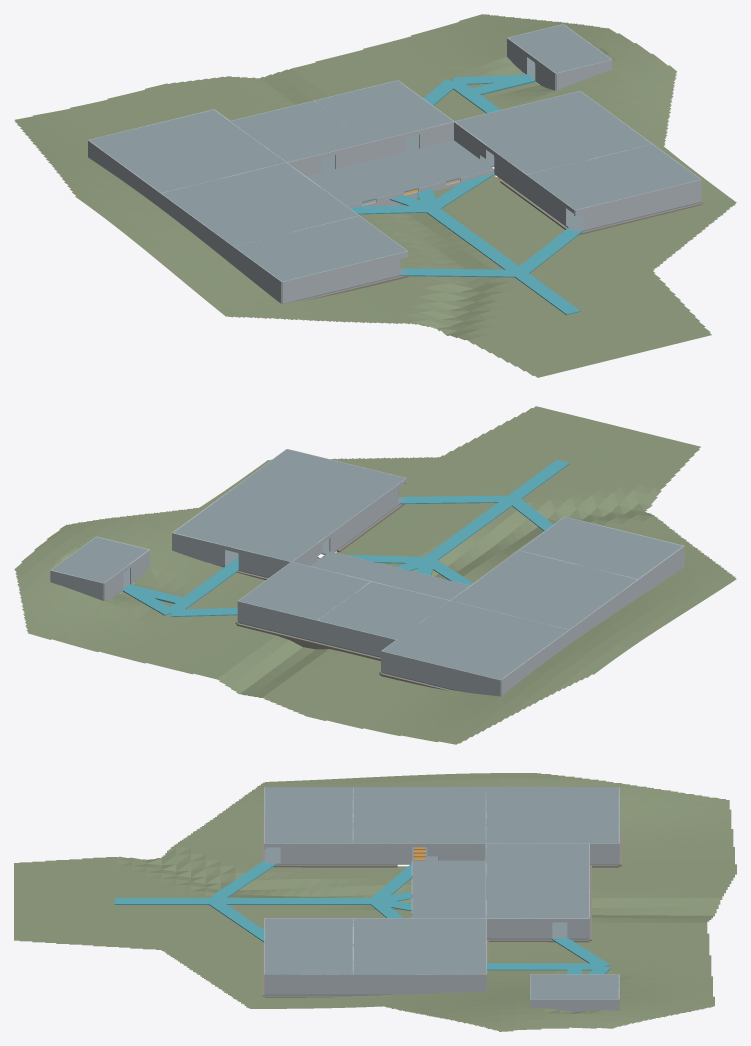
Rendered from finished-ends.glb.
3 renders of one model, top to bottom at view 1: azimuth 30°, elevation 25°; view 2: azimuth 150°, elevation 25°; view 3: azimuth 270°, elevation 25°, orthographic. The views are drawn at different scales.
Parts seen in each view (by area): view 1: Saved editor circulation terrain WLD-08, Ceiling cap lab, Ceiling cap dorm, Ceiling cap generator, Ceiling cap mess, Ceiling cap store, Ceiling cap radio, Ceiling cap records, Flat route shell Wall mess S, Flat route shell Wall store S, Ceiling cap shelter, Restored ceiling-cap tunnel 6 region1 (+19 smaller); view 2: Saved editor circulation terrain WLD-08, Ceiling cap generator, Ceiling cap dorm, Ceiling cap lab, Ceiling cap mess, Ceiling cap store, Ceiling cap records, Ceiling cap radio, Wall generator N, Ceiling cap shelter, Wall records N, Restored ceiling-cap tunnel 6 region1 (+13 smaller); view 3: Saved editor circulation terrain WLD-08, Ceiling cap generator, Ceiling cap lab, Ceiling cap dorm, Ceiling cap store, Ceiling cap mess, Ceiling cap radio, Ceiling cap records, Wall dorm E, Ceiling cap shelter, Wall mess E, Wall store E (+17 smaller).
Part boxes in pixels (left/top/right/bottom): Saved editor circulation terrain WLD-08: left=14, top=14, right=736, bottom=377; Ceiling cap lab: left=161, top=162, right=358, bottom=246; Ceiling cap dorm: left=454, top=91, right=651, bottom=174; Ceiling cap generator: left=89, top=110, right=285, bottom=192; Ceiling cap mess: left=527, top=144, right=700, bottom=209; Ceiling cap store: left=234, top=216, right=407, bottom=281; Ceiling cap radio: left=231, top=101, right=370, bottom=162; Ceiling cap records: left=315, top=80, right=453, bottom=141; Flat route shell Wall mess S: left=575, top=179, right=701, bottom=230; Flat route shell Wall store S: left=282, top=251, right=407, bottom=303; Ceiling cap shelter: left=508, top=24, right=610, bottom=72; Restored ceiling-cap tunnel 6 region1: left=337, top=164, right=493, bottom=205; Saved editor circulation terrain WLD-08: left=14, top=406, right=736, bottom=744; Ceiling cap generator: left=382, top=601, right=568, bottom=679; Ceiling cap dorm: left=173, top=482, right=359, bottom=561; Ceiling cap lab: left=450, top=550, right=636, bottom=629; Ceiling cap mess: left=242, top=449, right=405, bottom=511; Ceiling cap store: left=519, top=517, right=682, bottom=578; Ceiling cap records: left=238, top=562, right=369, bottom=620; Ceiling cap radio: left=318, top=581, right=449, bottom=639; Wall generator N: left=381, top=651, right=500, bottom=696; Ceiling cap shelter: left=51, top=537, right=148, bottom=583; Wall records N: left=237, top=601, right=317, bottom=641; Restored ceiling-cap tunnel 6 region1: left=323, top=551, right=469, bottom=591; Saved editor circulation terrain WLD-08: left=14, top=773, right=736, bottom=1031; Ceiling cap generator: left=486, top=787, right=618, bottom=843; Ceiling cap lab: left=353, top=787, right=485, bottom=843; Ceiling cap dorm: left=353, top=918, right=485, bottom=974; Ceiling cap store: left=265, top=787, right=353, bottom=843; Ceiling cap mess: left=265, top=918, right=353, bottom=974; Ceiling cap radio: left=486, top=843, right=589, bottom=880; Ceiling cap records: left=486, top=881, right=589, bottom=917; Wall dorm E: left=353, top=974, right=485, bottom=994; Ceiling cap shelter: left=530, top=974, right=618, bottom=999; Wall mess E: left=265, top=974, right=353, bottom=994; Wall store E: left=280, top=843, right=353, bottom=863.
Bounding box in the file's own units: 83 × 6 × 98.
37 materials, 19 textured.
